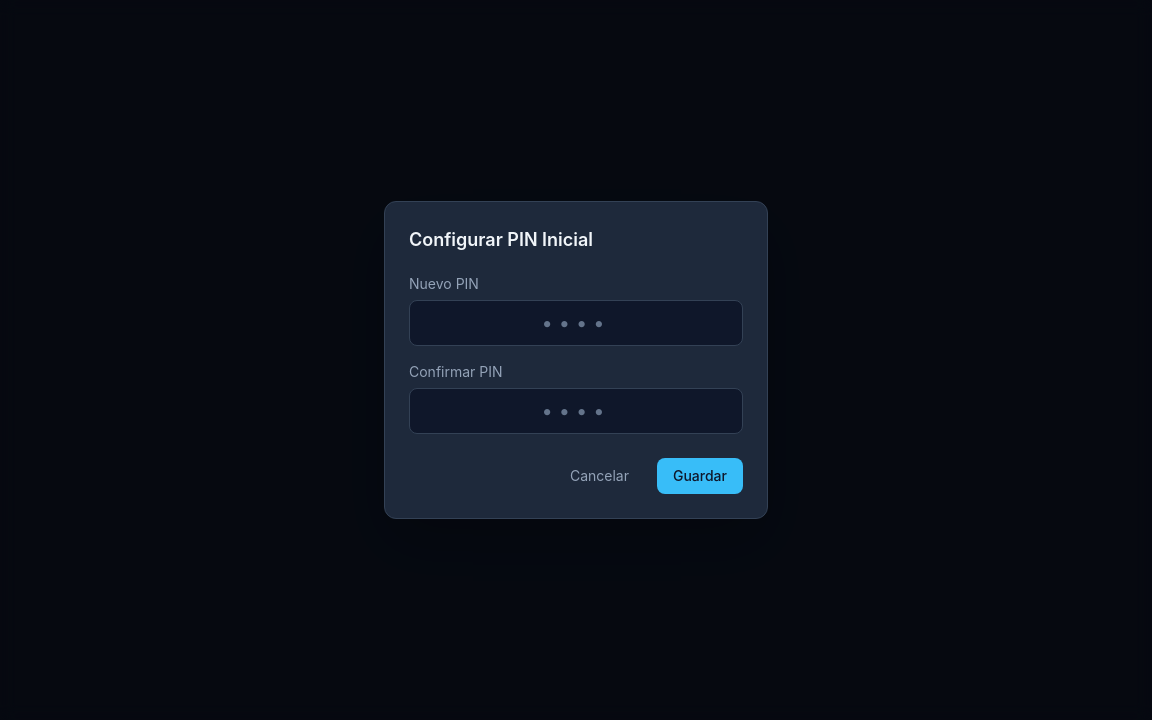
Test: PinDialog — setup mode (Req 2.4, 2.5) › should show error when PINs do not match
In the password field with test id "pin-input-new": [576, 323] box x1=409 y1=300 x2=743 y2=346, type "1234"
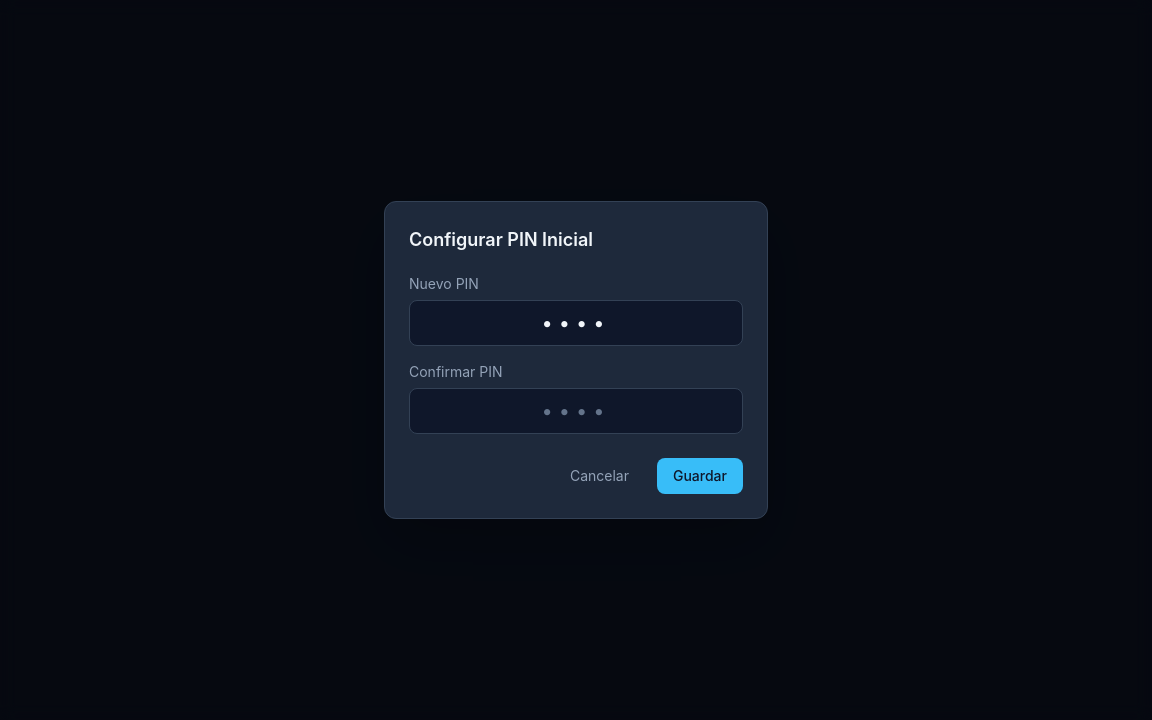
In the password field with test id "pin-input-confirm": [576, 411] box x1=409 y1=388 x2=743 y2=434, type "5678"
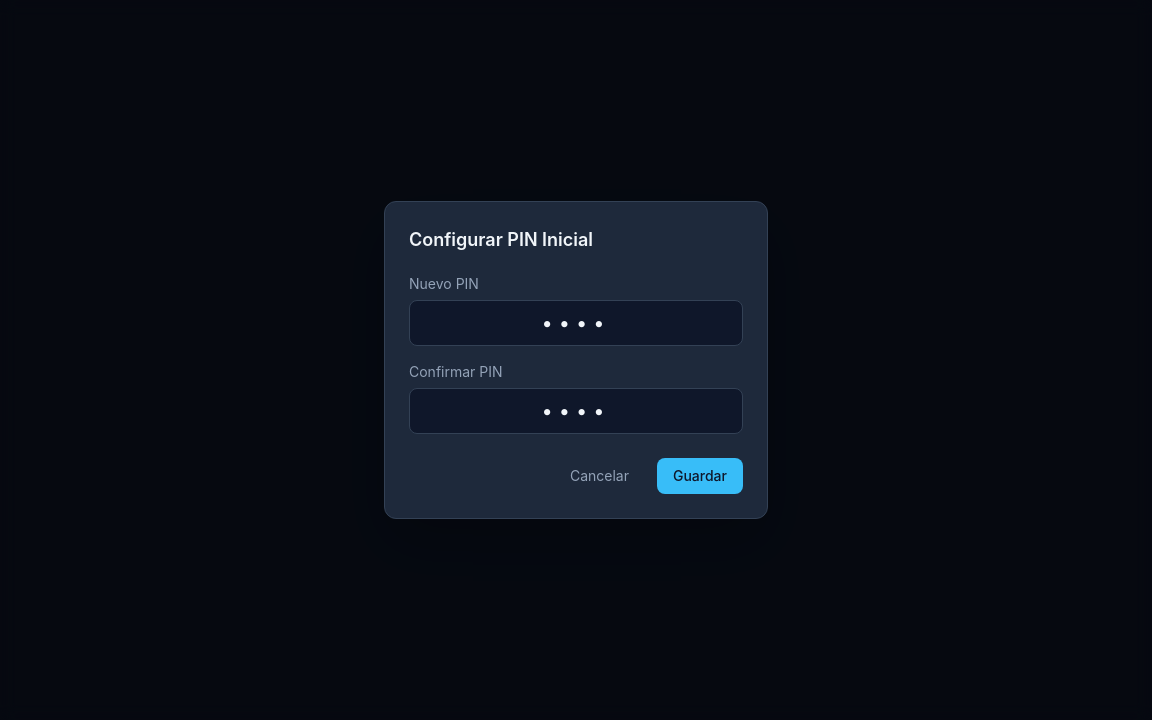
Click the button with test id "pin-dialog-submit": [700, 476] box x1=657 y1=458 x2=743 y2=494
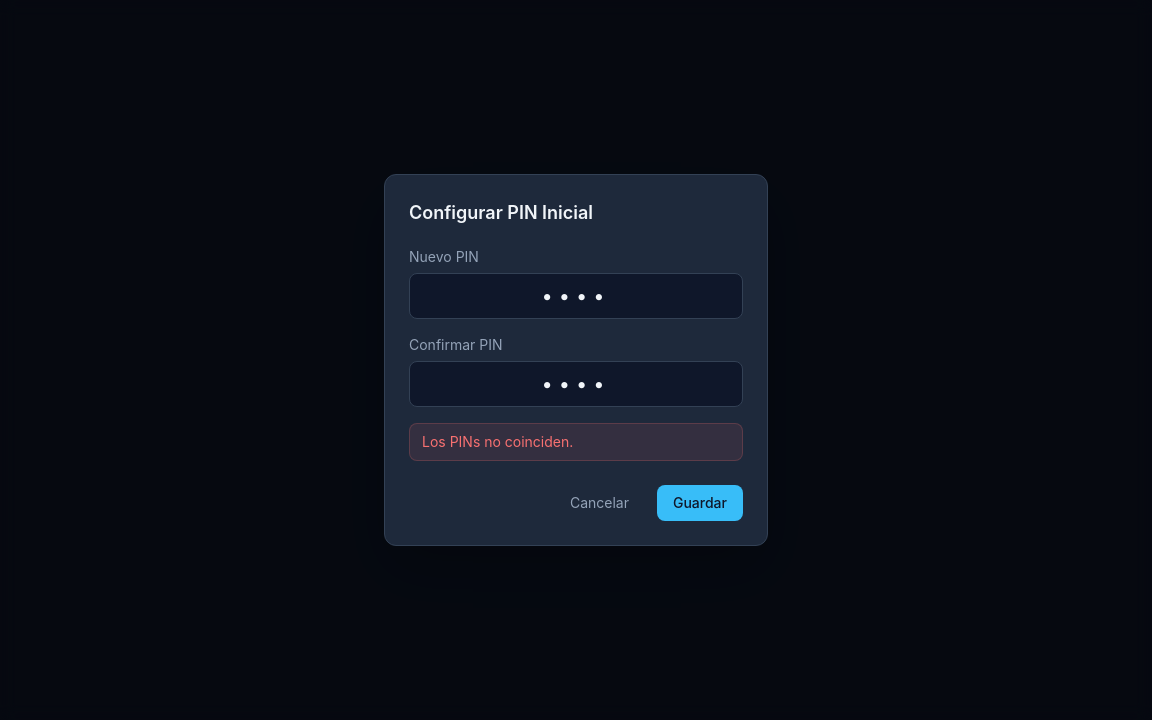
Expected: the message with test id "pin-dialog-error" reads "Los PINs no coinciden.", x1=422 y1=433 x2=573 y2=450
